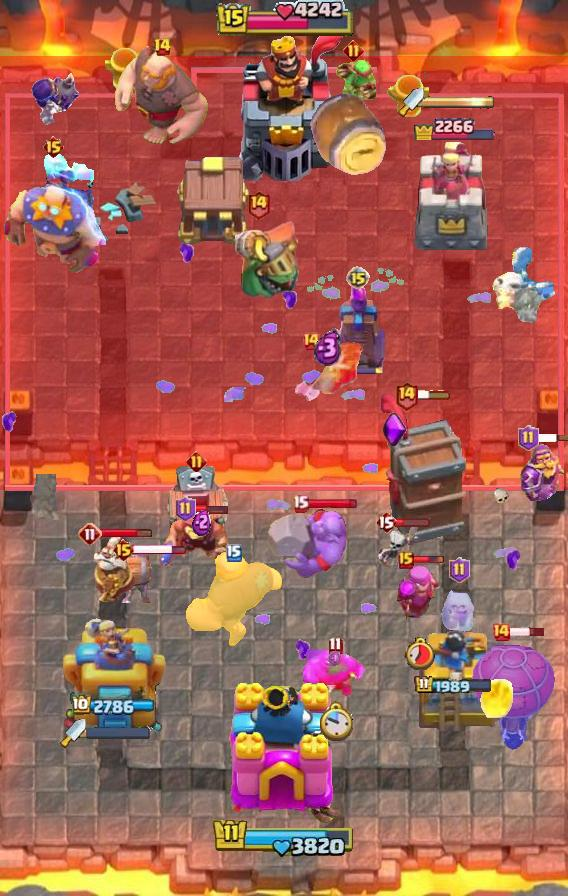archer-queen: (265, 505, 353, 581)
balloon: (112, 46, 212, 150), (183, 550, 285, 650)
bar: (61, 615, 166, 731), (412, 140, 494, 256)
bat-evolution: (440, 584, 478, 632)
bomb: (172, 153, 252, 247)
cannon-cart: (470, 632, 556, 750)
clock: (212, 817, 356, 859), (215, 0, 353, 39)
dart-goblin: (378, 391, 468, 547)
dirt: (307, 91, 389, 177)
electro-spirit: (314, 330, 342, 366), (193, 508, 212, 536), (328, 650, 342, 666)
elixir: (318, 701, 353, 743), (404, 636, 437, 670)
elixir-collector: (72, 533, 140, 607)
elixir-golem-mid: (161, 464, 231, 550)
emote: (306, 497, 358, 511), (132, 543, 187, 556), (99, 528, 153, 539), (509, 626, 546, 638), (416, 389, 452, 401), (395, 516, 431, 527), (194, 504, 229, 515), (411, 555, 445, 565), (536, 433, 568, 443)
fireball: (156, 507, 246, 575)
firecracker-evolution: (519, 443, 564, 502)
fisherman: (27, 474, 65, 520)
giant-snowball: (330, 56, 376, 100)
goblin-ball: (30, 72, 82, 128)
heal-spirit: (377, 521, 419, 573)
hog-rider: (292, 339, 364, 407)
ice-spirit-evolution-symbol: (328, 284, 388, 376)
king-tower: (223, 31, 345, 181), (222, 680, 346, 826)
king-tower-bar: (424, 95, 496, 109), (86, 727, 150, 739)
knight: (116, 555, 164, 603)
little-prince: (0, 147, 106, 275)
mini-pekka: (490, 245, 568, 327)
night-witch: (214, 216, 302, 300)
queen-tower: (403, 621, 503, 731)
rascal-girl: (396, 561, 444, 629)
selected: (411, 112, 495, 140), (71, 695, 156, 717), (414, 675, 494, 697)
skeleton-king-skill: (381, 411, 407, 447)
text: (245, 189, 270, 220), (394, 380, 419, 411), (346, 266, 370, 290), (78, 522, 102, 546), (42, 135, 65, 159), (113, 538, 136, 562), (517, 425, 538, 451), (176, 496, 197, 522), (449, 557, 470, 583), (375, 510, 397, 534), (185, 451, 206, 473), (343, 40, 364, 61), (301, 331, 321, 351), (491, 622, 511, 642), (152, 37, 171, 57), (291, 495, 309, 513), (226, 544, 242, 562), (398, 551, 414, 569), (328, 637, 343, 655)
tornado: (303, 648, 367, 698)
valkyrie: (479, 673, 517, 721)
